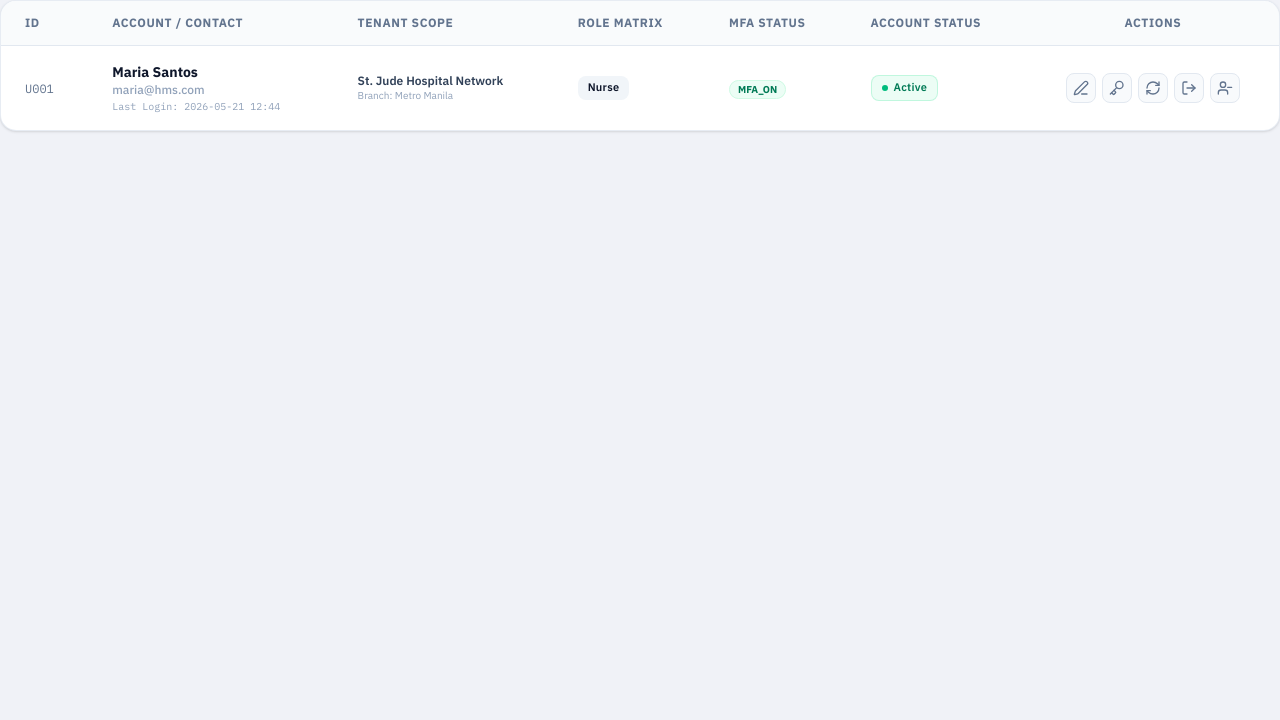
UserAccessTable privileged-action tests › edit_role button opens custom role picker dialog when availableRoles provided
Click the button titled "Edit Roles & Scopes" at (1081, 88), box [1066,73,1096,103]
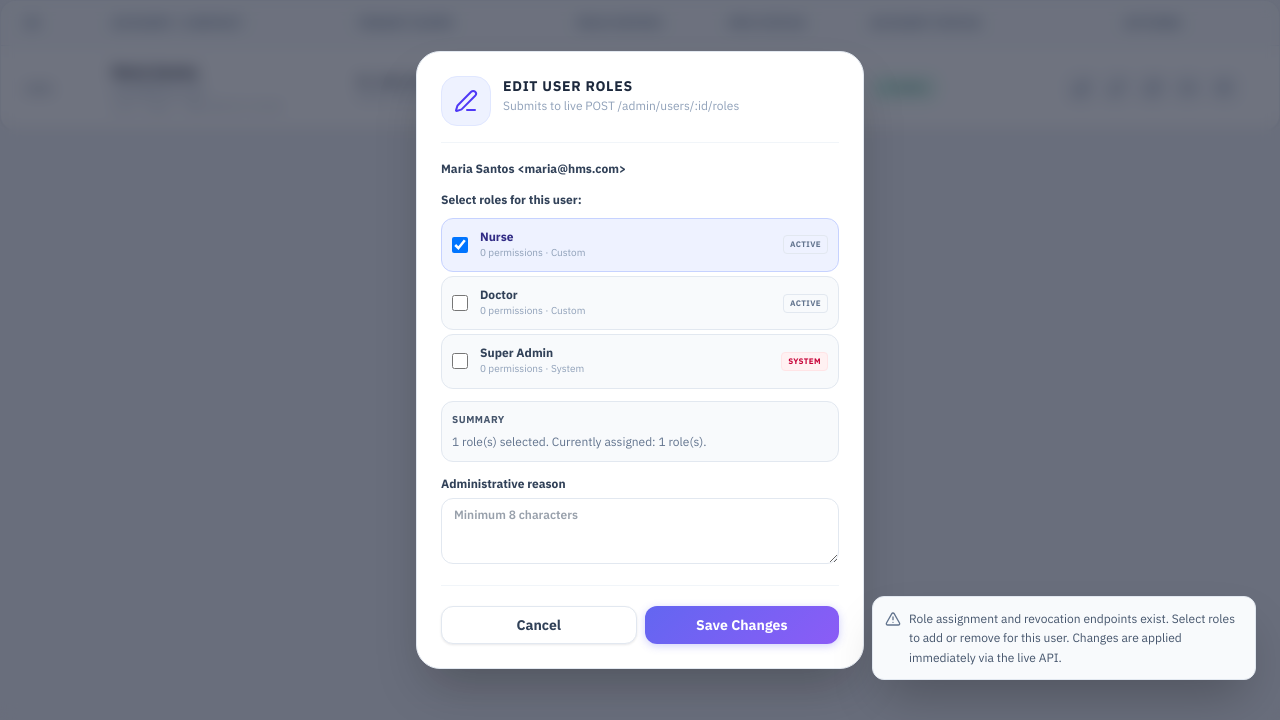
Check: the heading "Edit User Roles" is shown, box [503,77,633,95]
Check: the text "Doctor" is shown, box [480,287,518,302]
Check: the text "Super Admin" is shown, box [480,345,553,360]
